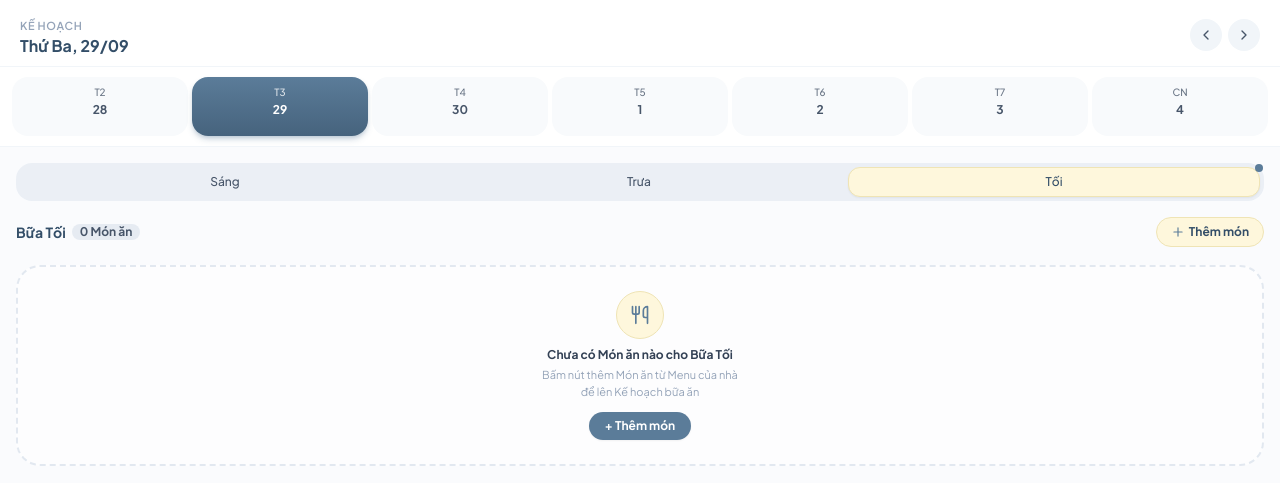
Test: Weekly Plan Integration › navigates between previous and next weeks
Click next week button
Click the button with test id "next-week-btn" at (1244, 35), box [1228,19,1260,51]
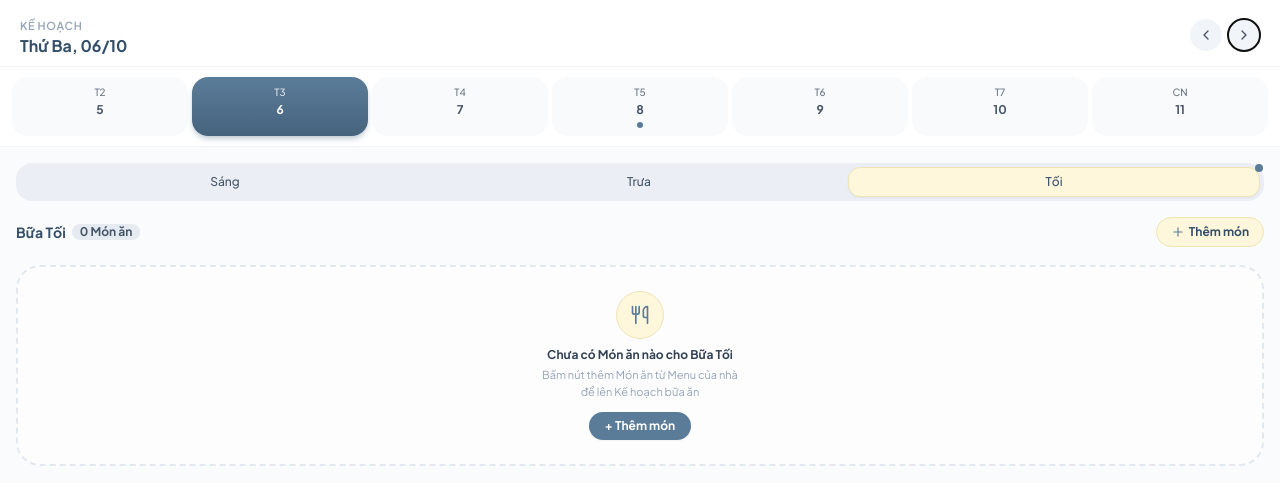
Expected: the text "5" is shown, [96,102,104,118]
Click prev week button back to current week
Click the button with test id "prev-week-btn" at (1206, 35), box [1190,19,1222,51]
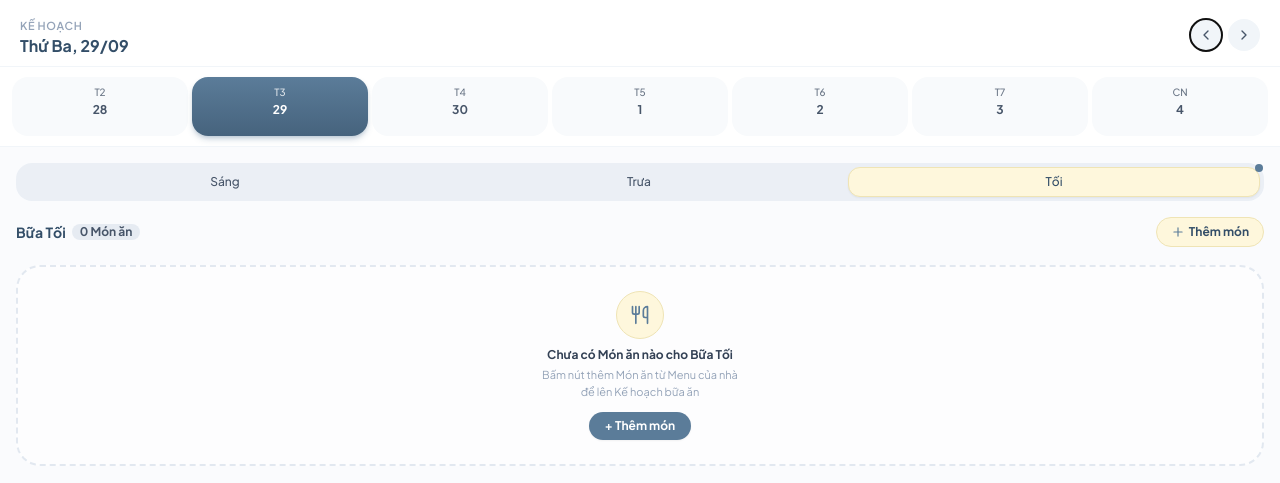
Expected: the text "28" is shown, [93,102,107,118]
